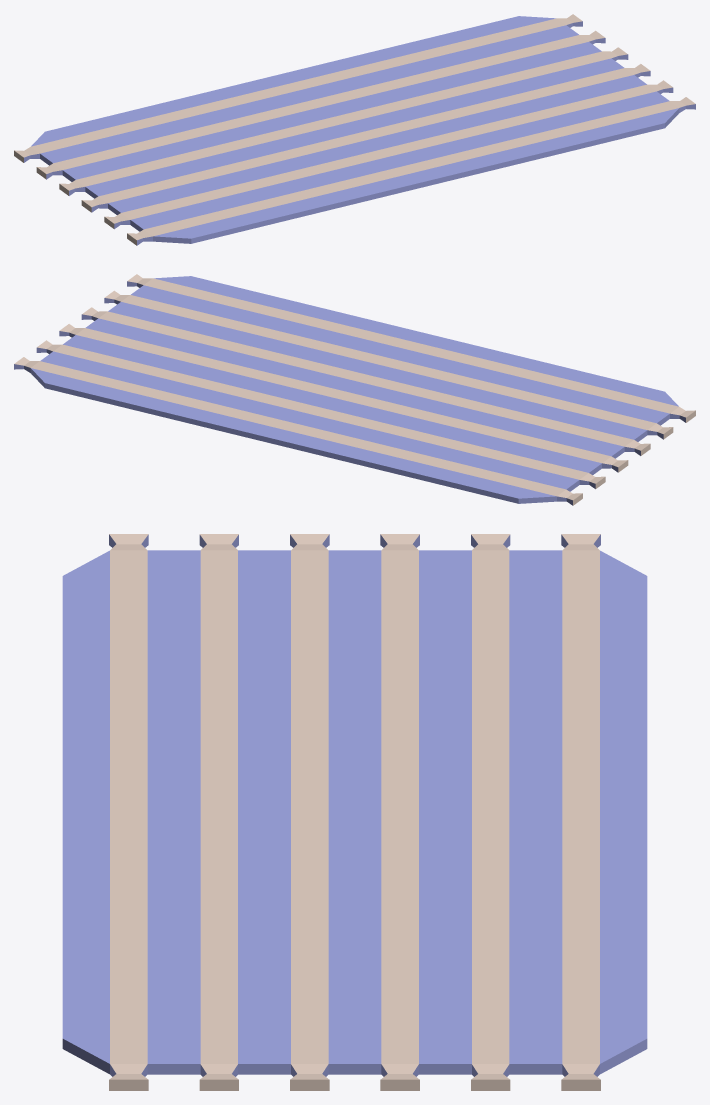
Rendered from CarpetA.fbx.
The picture shows the model from 3 angles, top to bottom: view 1: azimuth 30°, elevation 25°; view 2: azimuth 150°, elevation 25°; view 3: azimuth 270°, elevation 25°; orthographic projection. The views are drawn at different scales.
Parts seen in each view (by area): view 1: CarpetB; view 2: CarpetB; view 3: CarpetB.
Boxes of the visible parts, box(x1,y1,x2,y2) form: CarpetB: box(14, 14, 695, 245); CarpetB: box(14, 274, 695, 505); CarpetB: box(62, 534, 647, 1090).
Size of the model in its own units: 1137 by 10.73 by 515.
